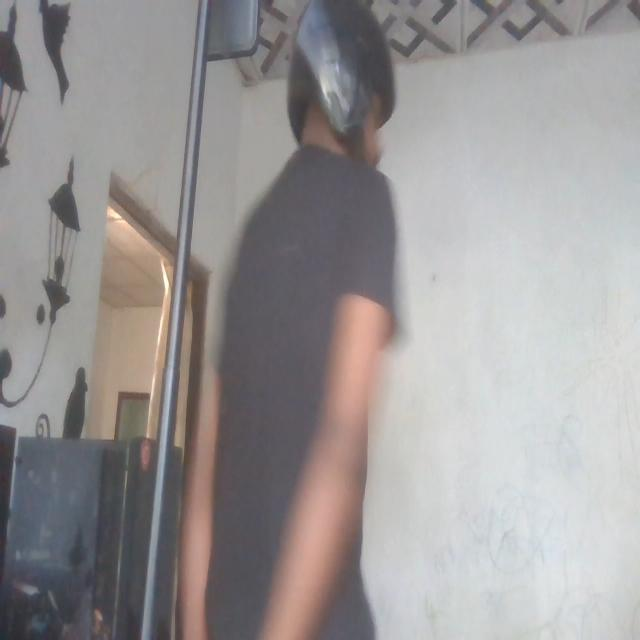Helmet_Wearer: (285, 0, 407, 209)
Person: (188, 0, 392, 640)
